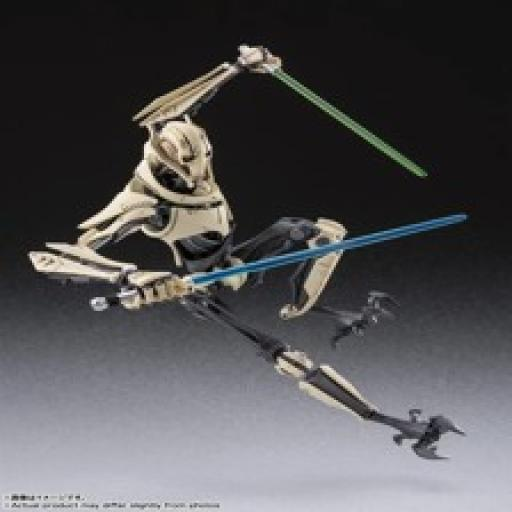lightsaber: (88, 210, 472, 321), (240, 41, 433, 179)
